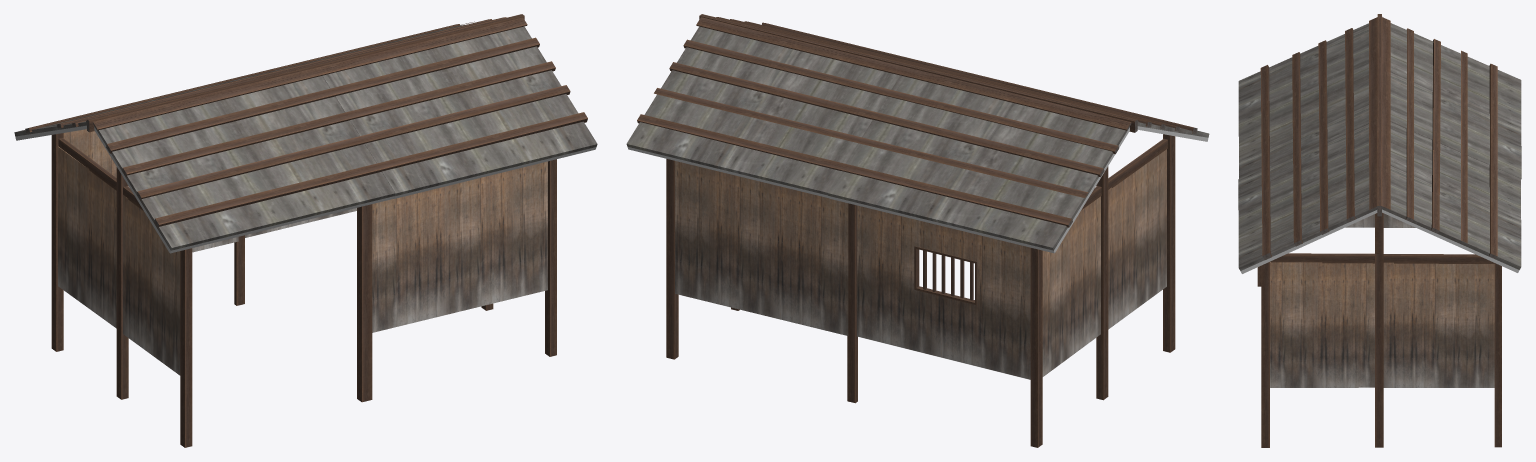
The model's file is jov_shed01c.fbx.
The picture shows the model from 3 angles, left to right: view 1: azimuth 30°, elevation 25°; view 2: azimuth 150°, elevation 25°; view 3: azimuth 270°, elevation 25°; orthographic projection. The views are drawn at different scales.
Parts seen in each view (by area): view 1: jov_shed01c; view 2: jov_shed01c; view 3: jov_shed01c.
Boxes of the visible parts, bbox=[...] form: jov_shed01c: bbox=[14, 14, 597, 447]; jov_shed01c: bbox=[626, 14, 1209, 447]; jov_shed01c: bbox=[1238, 14, 1521, 447].
Size of the model in its own units: 816 by 511 by 511.
